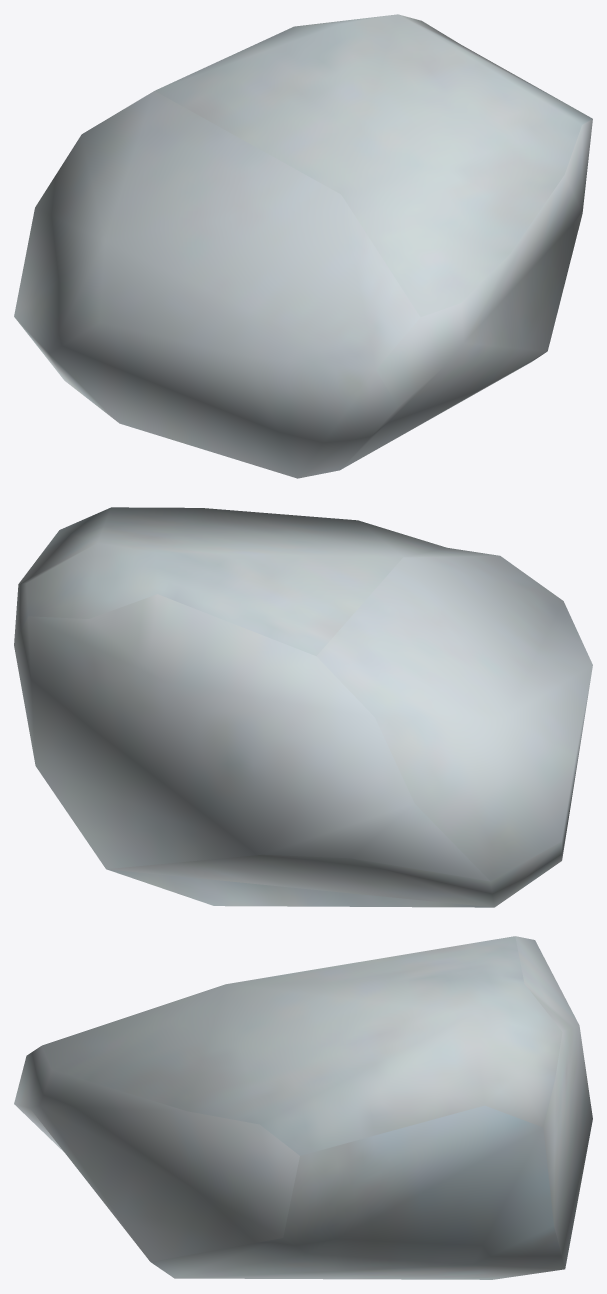
The model's file is P_RockClassic4.obj.
3 renders of one model, top to bottom at view 1: azimuth 30°, elevation 25°; view 2: azimuth 150°, elevation 25°; view 3: azimuth 270°, elevation 25°, orthographic. The views are drawn at different scales.
Size of the model in its own units: 1.68 by 0.9744 by 1.54.
